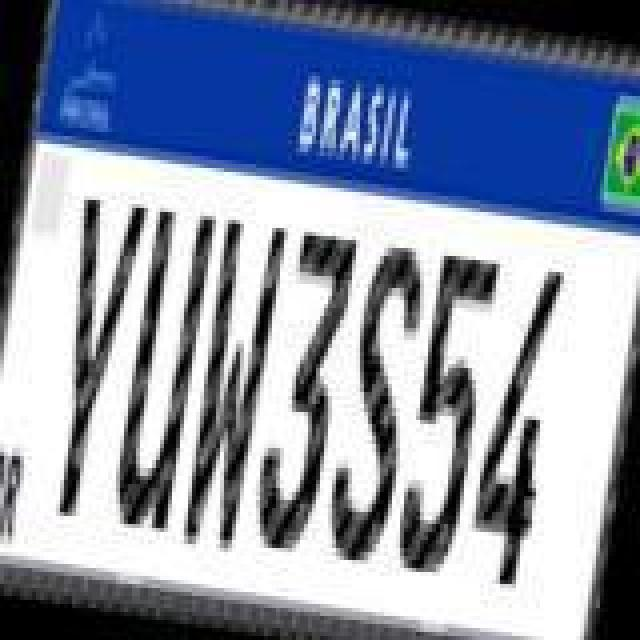3: (246, 222, 362, 562)
4: (460, 258, 572, 590)
5: (392, 246, 504, 586)
S: (318, 232, 434, 568)
U: (104, 206, 216, 538)
W: (174, 214, 290, 554)
Y: (30, 194, 146, 526)
